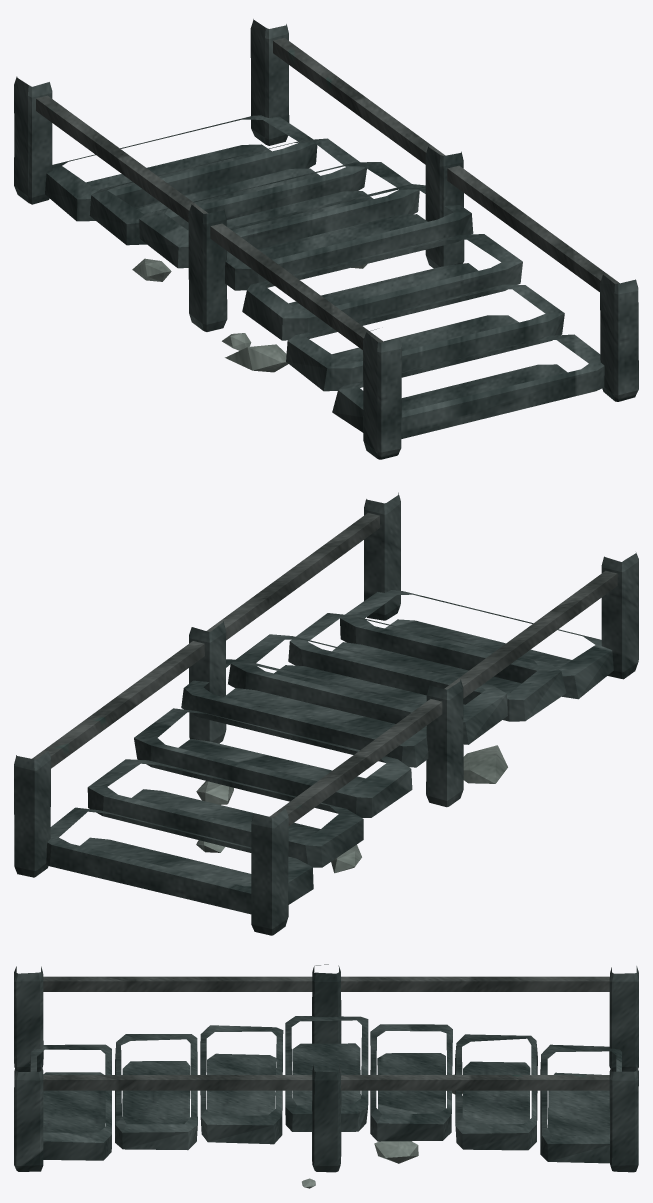
File: 0379_ruined_bridge_04.glb
The picture shows the model from 3 angles, top to bottom: view 1: azimuth 30°, elevation 25°; view 2: azimuth 150°, elevation 25°; view 3: azimuth 270°, elevation 25°; orthographic projection. The views are drawn at different scales.
Parts seen in each view (by area): view 1: stone_dark, iron, stone; view 2: stone_dark, iron, stone; view 3: stone_dark, iron, stone.
Part boxes in pixels (<box>): stone_dark: <box>14,19,638,459</box>; iron: <box>36,38,619,349</box>; stone: <box>132,258,367,372</box>; stone_dark: <box>14,492,638,935</box>; iron: <box>32,513,617,826</box>; stone: <box>196,745,507,873</box>; stone_dark: <box>14,964,638,1172</box>; iron: <box>43,976,609,1090</box>; stone: <box>302,1074,462,1188</box>.
Bounding box in the file's own units: 2.33 × 1.09 × 5.36.
Materials: 3 (3 with a texture image).
